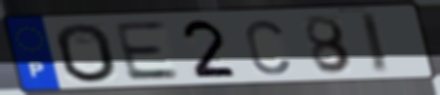2: (180, 18, 239, 80)
8: (302, 14, 354, 76)
C: (242, 17, 293, 77)
E: (110, 19, 183, 83)
I: (356, 10, 392, 76)
O: (53, 21, 121, 84)
